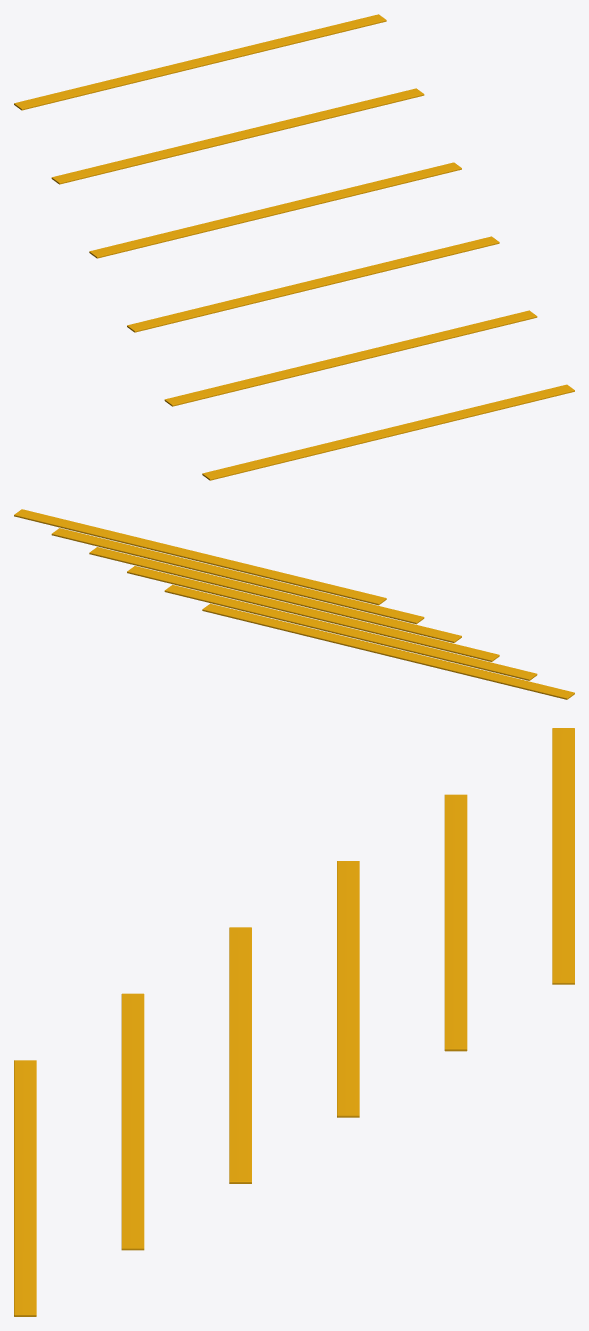
Rendered from gteki_ik_stair_n6_r177_t260_w1471_nosing.glb.
3 views of the same model, one above another, from view 1: azimuth 30°, elevation 25°; view 2: azimuth 150°, elevation 25°; view 3: azimuth 270°, elevation 25° (orthographic). The views are drawn at different scales.
Parts seen in each view (by area): view 1: VIS_nosings; view 2: VIS_nosings; view 3: VIS_nosings.
Part boxes in pixels (x1,y1,x2,y2): VIS_nosings: [14, 14, 574, 480]; VIS_nosings: [14, 509, 574, 699]; VIS_nosings: [14, 728, 574, 1316].
Size of the model in its own units: 1.46 by 0.891 by 1.36.
